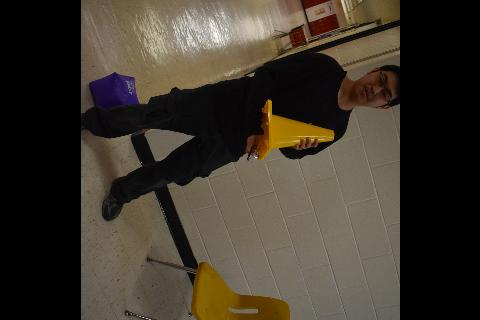cone: (253, 100, 333, 160)
cube: (90, 73, 138, 109)
